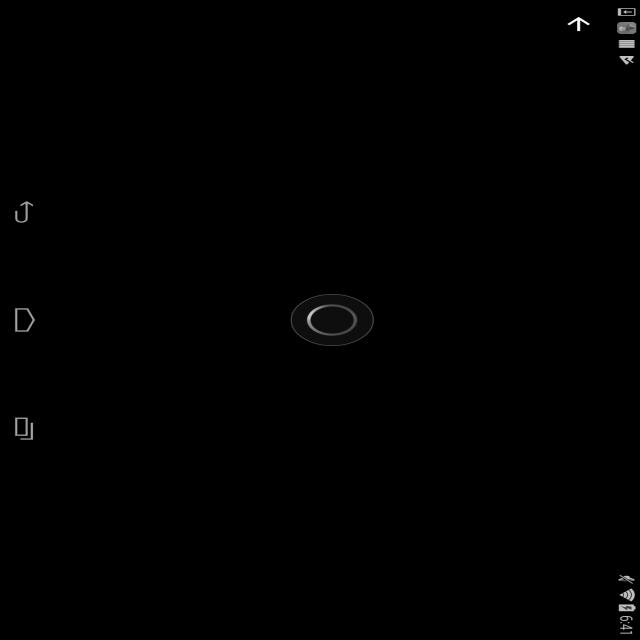ImageButton: (9, 17, 68, 60)
ImageView: (0, 17, 640, 368), (59, 273, 380, 401), (567, 243, 594, 259), (76, 168, 92, 178)
Spinner: (431, 240, 594, 262)
TextView: (59, 105, 640, 158), (392, 321, 640, 361), (392, 292, 640, 321), (392, 361, 640, 379), (430, 240, 567, 262), (262, 163, 334, 184), (515, 280, 640, 292), (393, 280, 506, 292), (191, 163, 251, 184), (95, 167, 164, 180), (506, 280, 515, 292)
